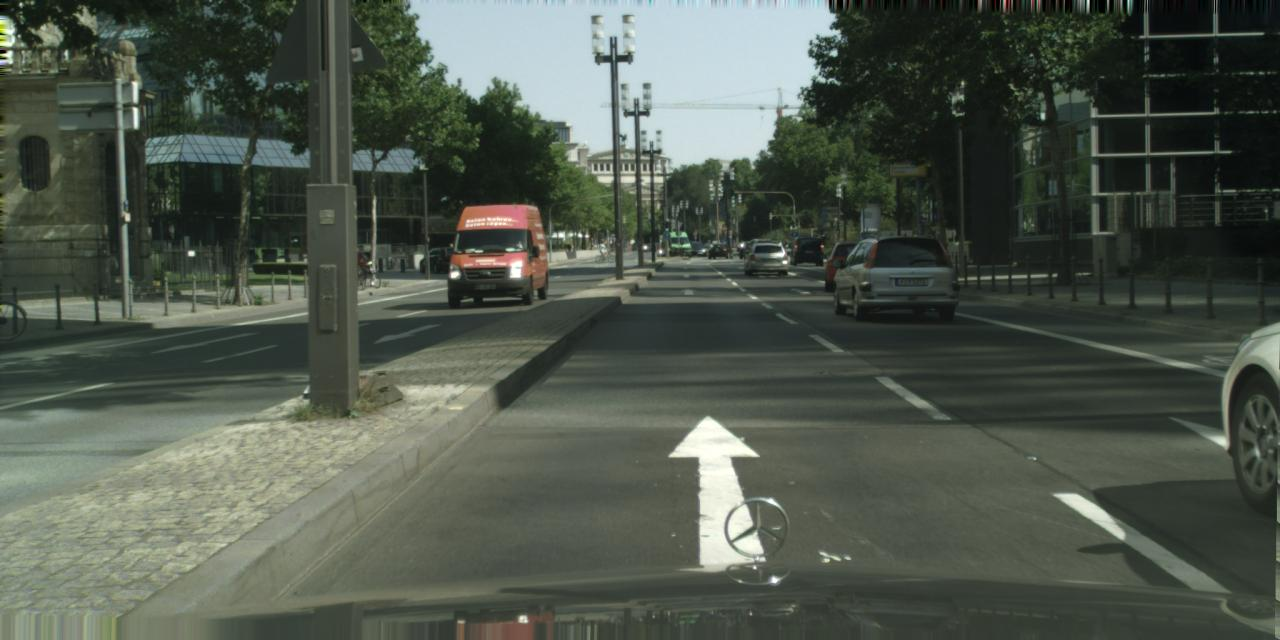ped: (600, 240, 608, 261)
